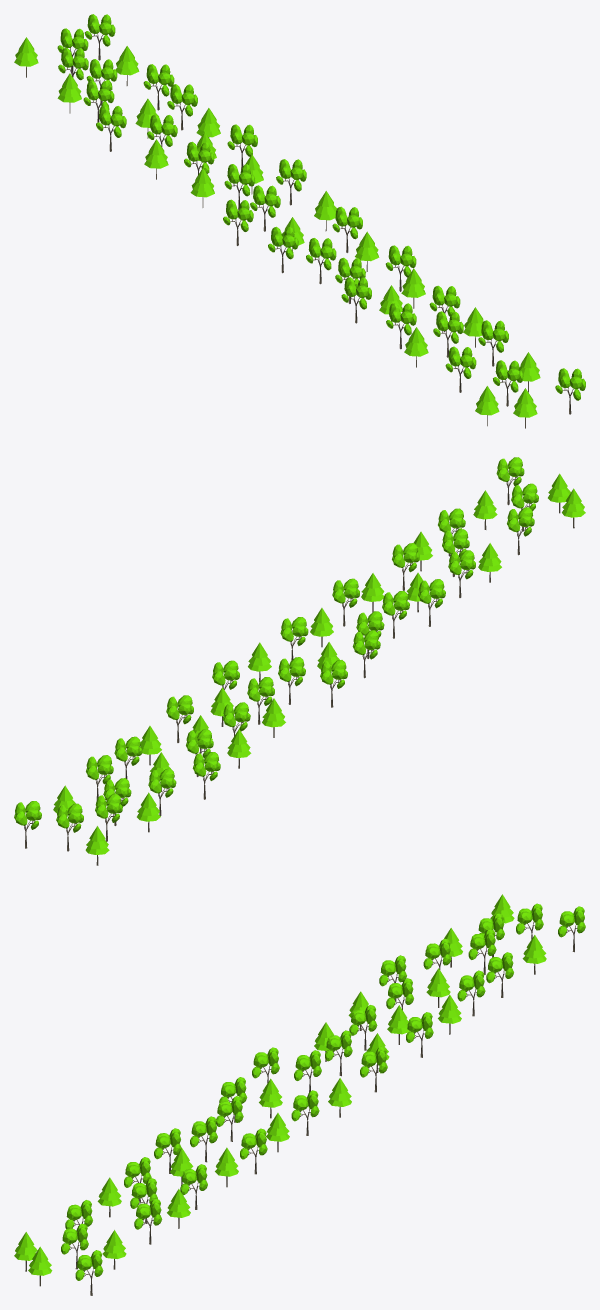
File: groun_thrrr_left.fbx
3 renders of one model, top to bottom at view 1: azimuth 30°, elevation 25°; view 2: azimuth 150°, elevation 25°; view 3: azimuth 330°, elevation 25°, orthographic.
Visible parts, largest first — view 1: Cone.081; view 2: Cone.081; view 3: Cone.081.
Boxes of the visible parts, x1=… form: Cone.081: x1=14, y1=14, x2=585, y2=428; Cone.081: x1=14, y1=457, x2=585, y2=865; Cone.081: x1=14, y1=894, x2=585, y2=1295.
Size of the model in its own units: 3405 by 1279 by 26222.
